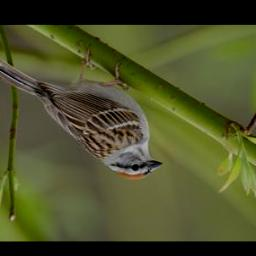Sparrow: (0, 45, 166, 181)
